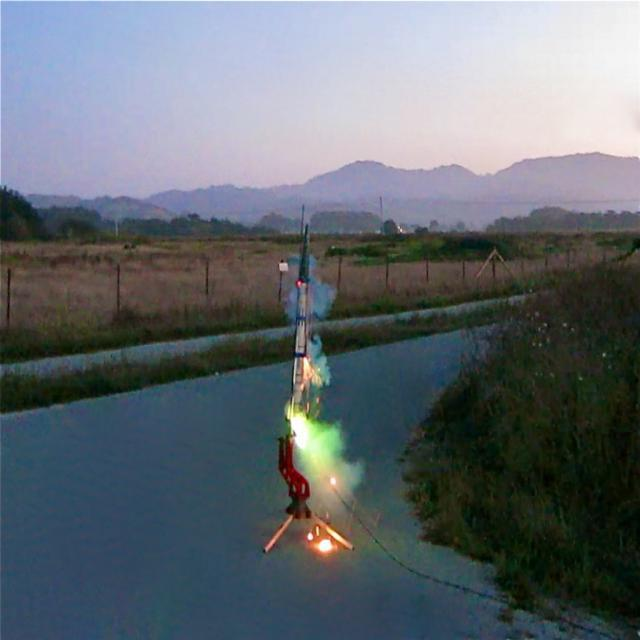missile: (288, 218, 314, 422)
